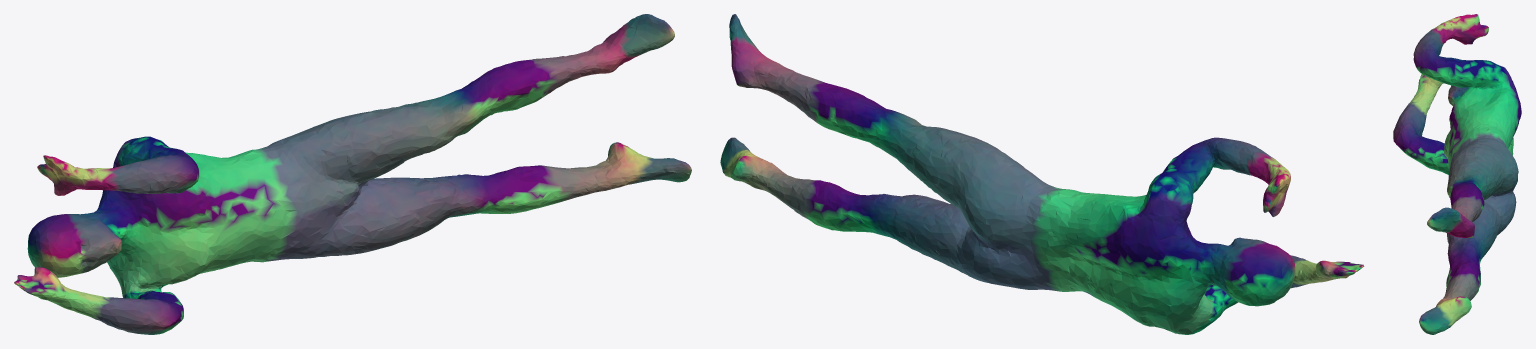
Rendered from man-1.off.obj.
The picture shows the model from 3 angles, left to right: view 1: azimuth 30°, elevation 25°; view 2: azimuth 150°, elevation 25°; view 3: azimuth 270°, elevation 25°; orthographic projection. The views are drawn at different scales.
Bounding box in the file's own units: 1.59 × 0.4471 × 0.3702.
